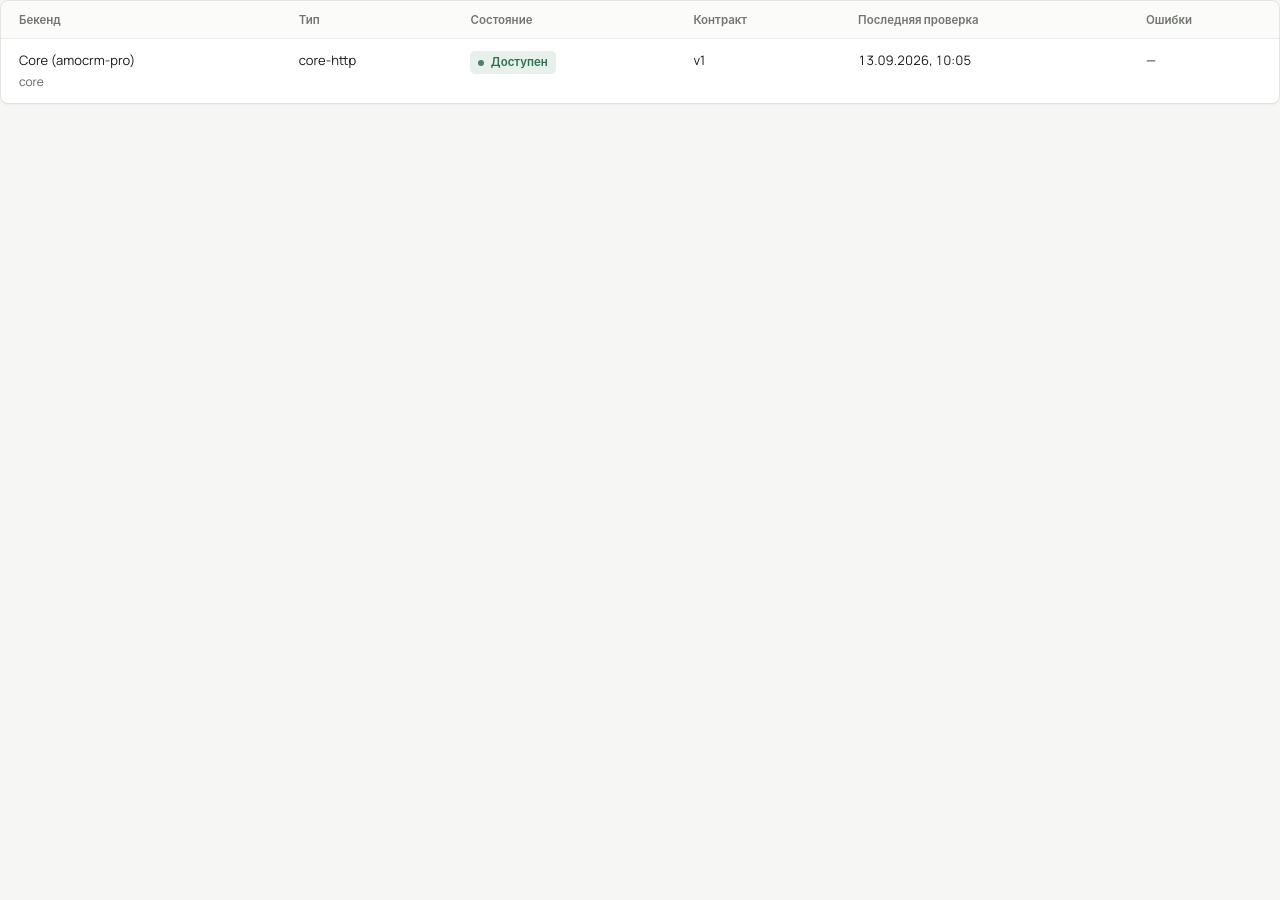
Scenario: BackendRegistry › renders the compact table and keeps details in the drawer
Check: the text "core" is shown, box [19,73,44,90]
Check: the text "core-http" is shown, box [281,39,452,103]
Step 1. Click the text "Core (amocrm-pro)" → (77, 60), box [19,51,135,69]
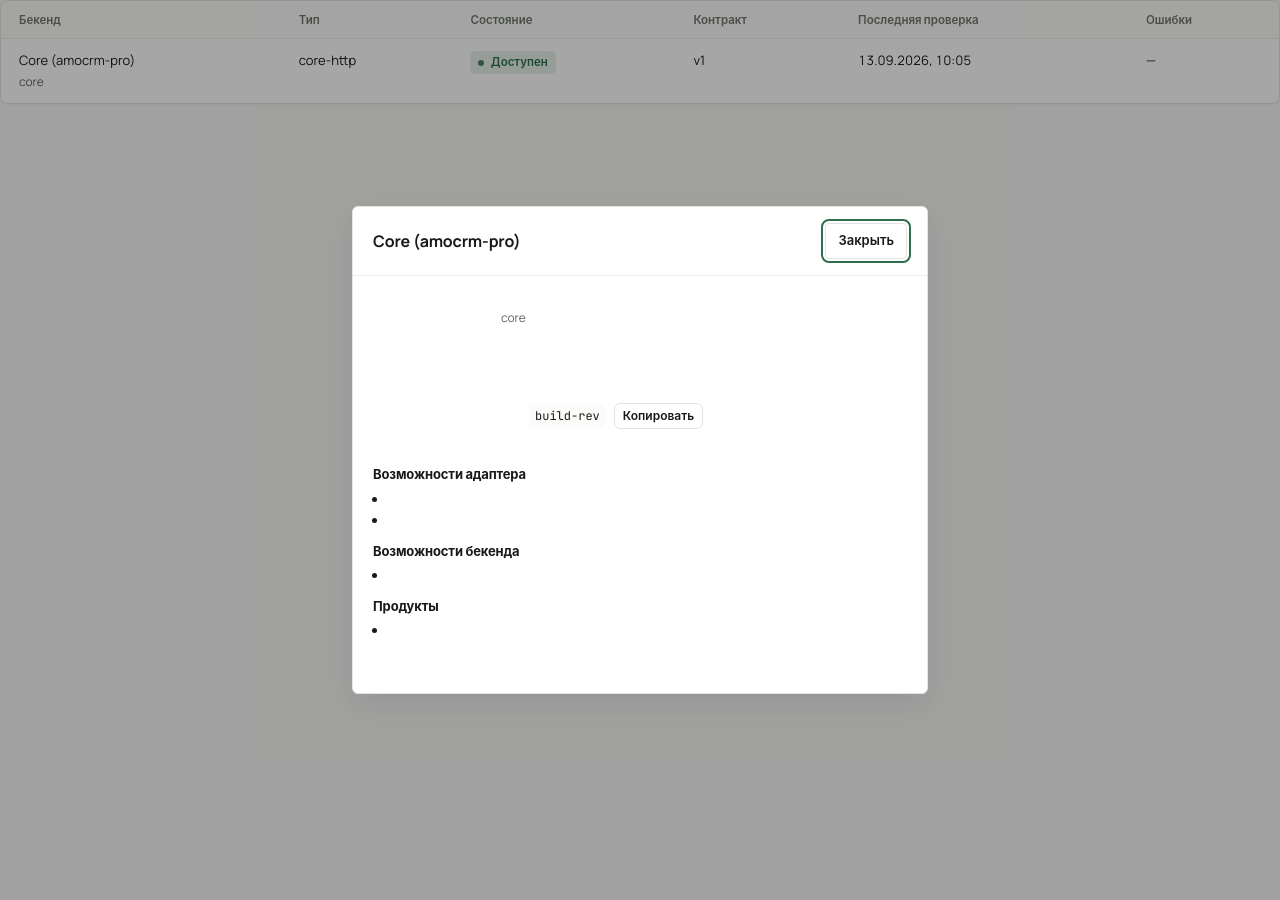
Check: the heading "Возможности адаптера" is shown, box [373,465,526,483]
Check: the heading "Возможности бекенда" is shown, box [373,542,519,560]
Check: the text titled "build-rev" is shown, box [529,405,606,427]
